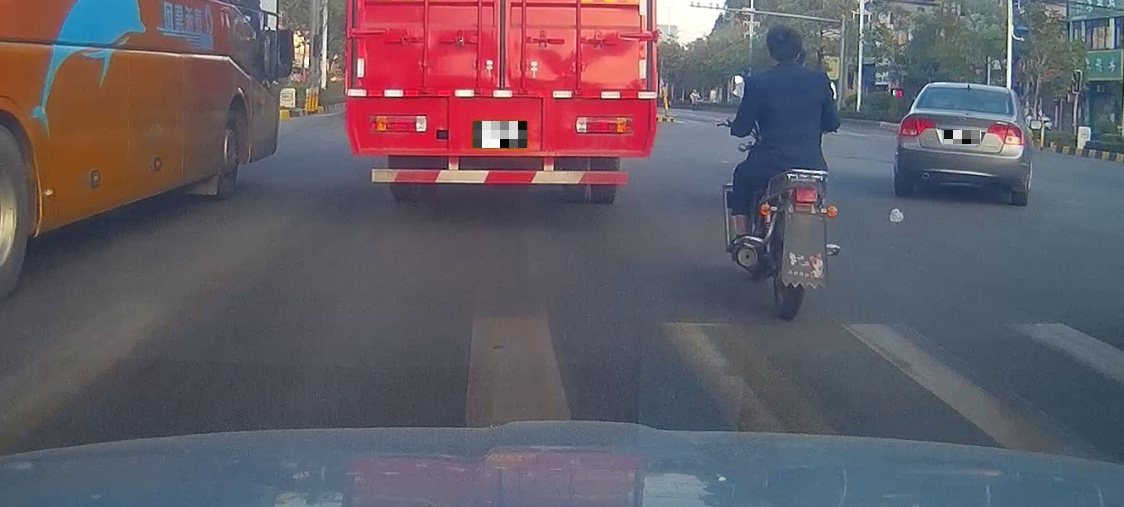L_light: (899, 116, 936, 136)
R_light: (986, 122, 1024, 146)
T_light: (959, 88, 976, 93)
day-right: (895, 82, 1028, 206)
plate_1: (473, 121, 527, 148)
plate_2: (944, 130, 981, 144)
